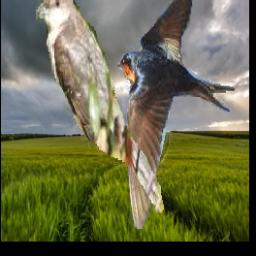Cuckoo: (35, 0, 166, 215)
Swallow: (116, 0, 234, 230)
